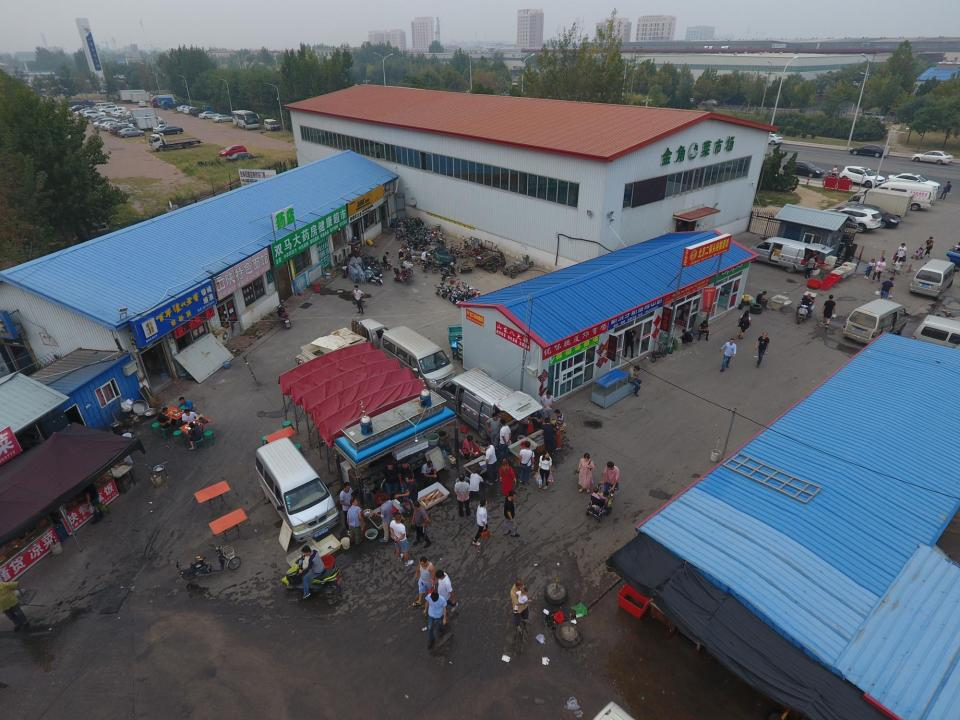bus: (231, 110, 260, 130)
car: (824, 204, 881, 236), (844, 202, 900, 231), (889, 172, 941, 198), (840, 164, 886, 190), (781, 158, 824, 178), (912, 148, 954, 167), (850, 144, 886, 159), (752, 130, 783, 146), (219, 144, 248, 159), (226, 152, 261, 164), (154, 125, 183, 136), (116, 128, 144, 138), (112, 125, 136, 136), (110, 122, 135, 132), (212, 114, 236, 124), (93, 118, 117, 128), (80, 110, 106, 119), (152, 123, 174, 133), (97, 121, 124, 129), (198, 112, 221, 120), (109, 124, 132, 132), (101, 123, 125, 130), (92, 116, 113, 124), (74, 109, 96, 116), (90, 115, 110, 122), (183, 107, 201, 114), (177, 105, 194, 112), (182, 105, 196, 112), (138, 101, 147, 107)
truck: (293, 315, 388, 374), (147, 130, 202, 152), (160, 99, 188, 110), (190, 106, 214, 117), (150, 97, 174, 107)
van: (253, 440, 338, 544), (439, 371, 537, 439), (382, 328, 456, 391), (745, 234, 824, 274), (840, 302, 911, 343), (907, 316, 960, 361), (874, 182, 935, 211), (909, 259, 954, 297), (263, 118, 280, 132), (93, 102, 115, 112), (110, 107, 127, 115)
